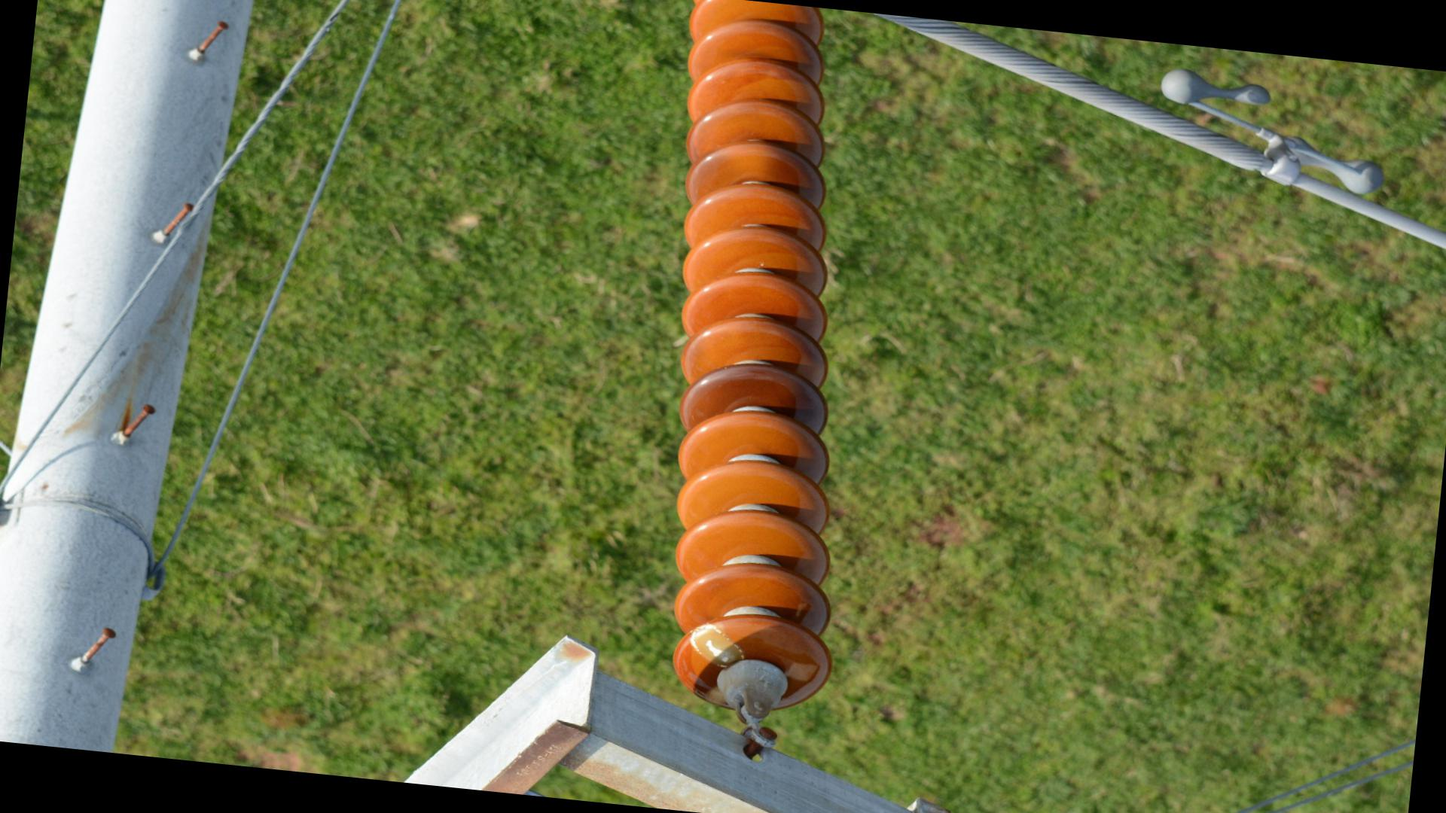damper: (1147, 61, 1399, 204)
